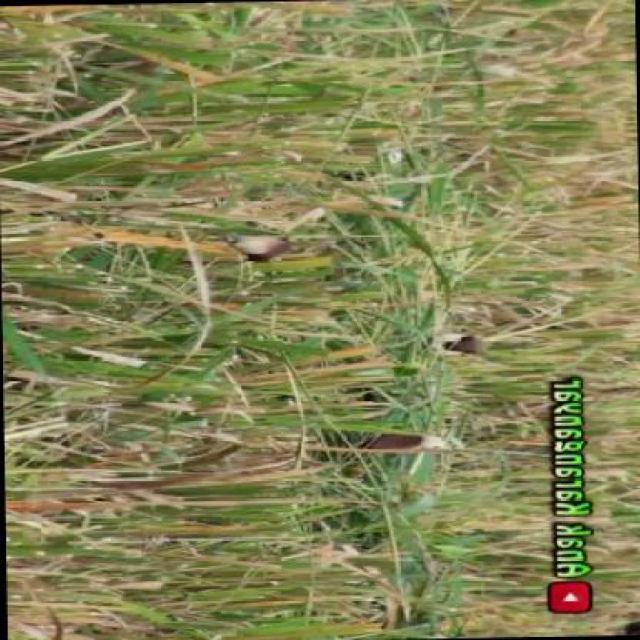Bird: (362, 412, 467, 469), (221, 219, 302, 262), (431, 319, 480, 361)
